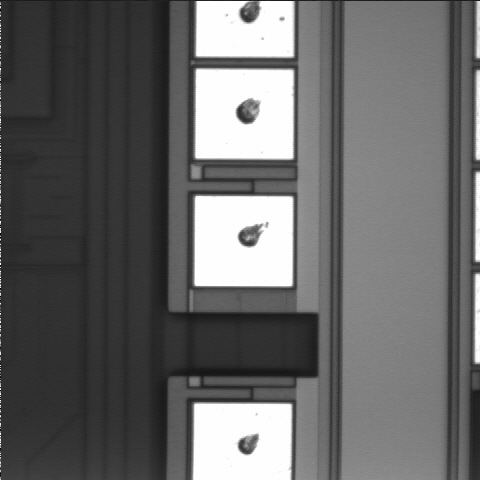pad: (195, 69, 294, 159), (195, 196, 293, 286)
